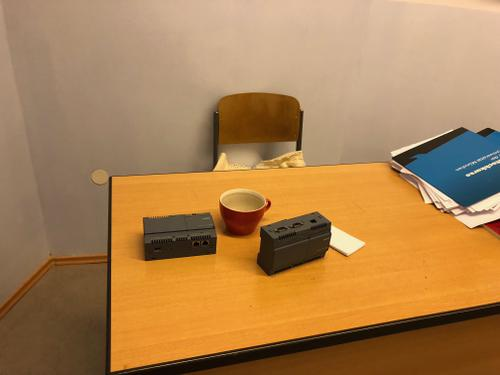device: (257, 212, 332, 277), (143, 213, 218, 262)
